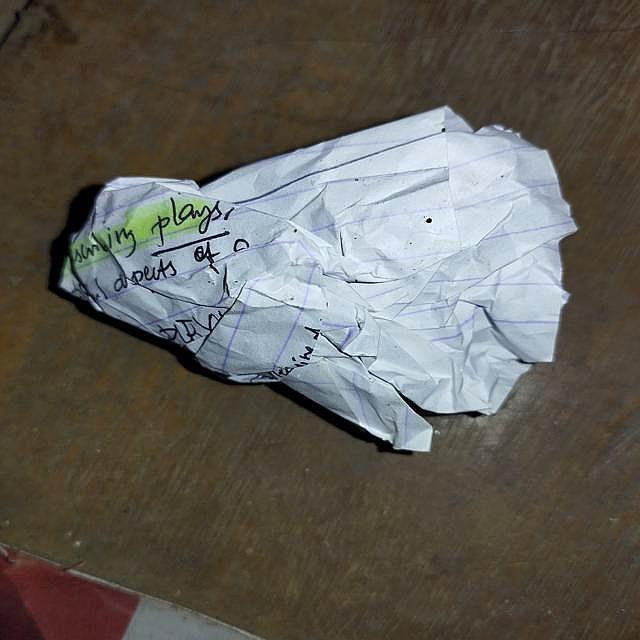Biodegradable: (61, 107, 569, 459)
